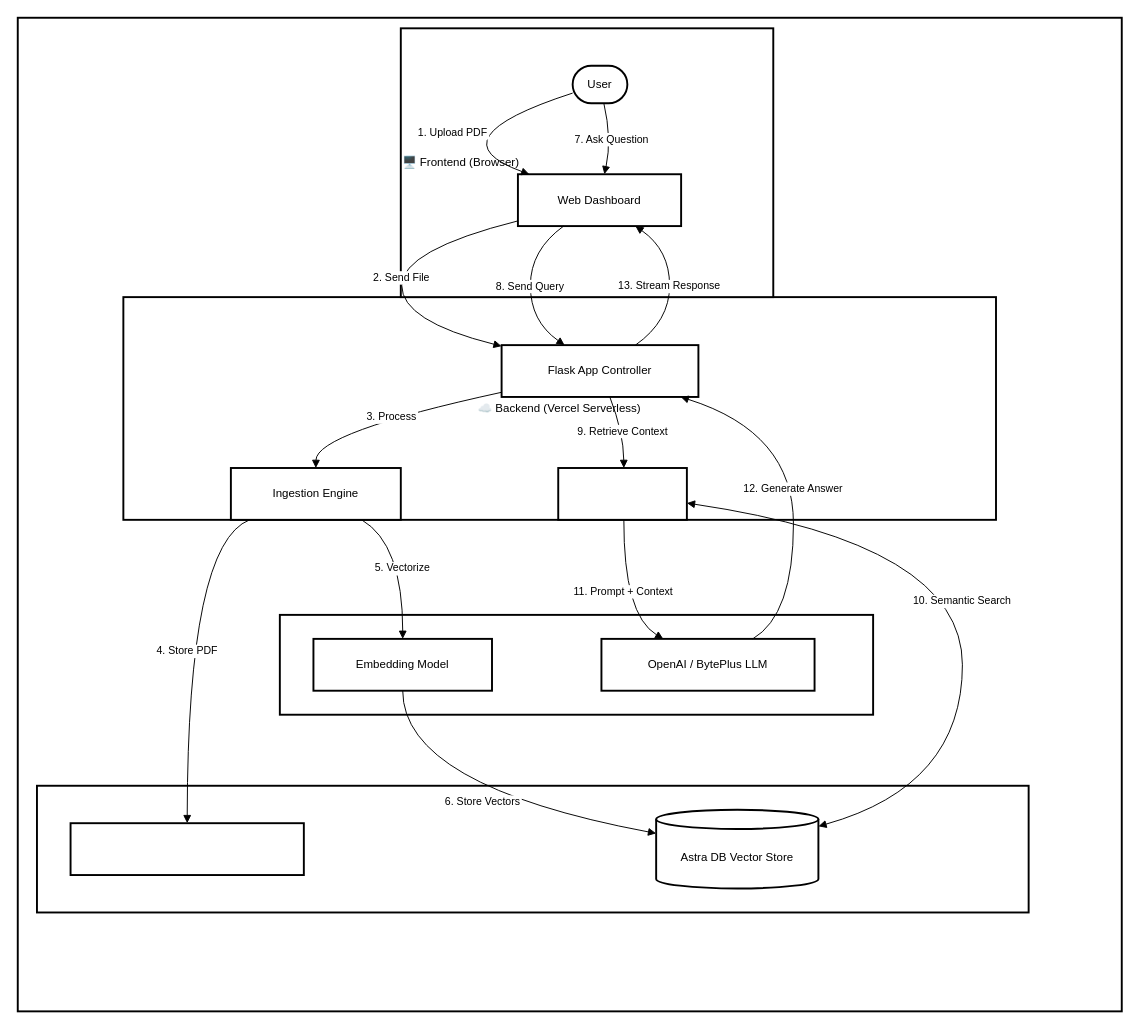
The diagram is 1139 pixels wide and 1028 high, and some of its shapes have lost their labels. Here are the shapes that lost their labels. From the top down, the box of each, then its label:
(557, 467, 687, 520): RAG Chain
(278, 613, 874, 715): 🧠 AI Services
(69, 822, 304, 876): Vercel Blob (PDF Storage)
(36, 784, 1029, 913): 💾 Cloud Storage & Database
